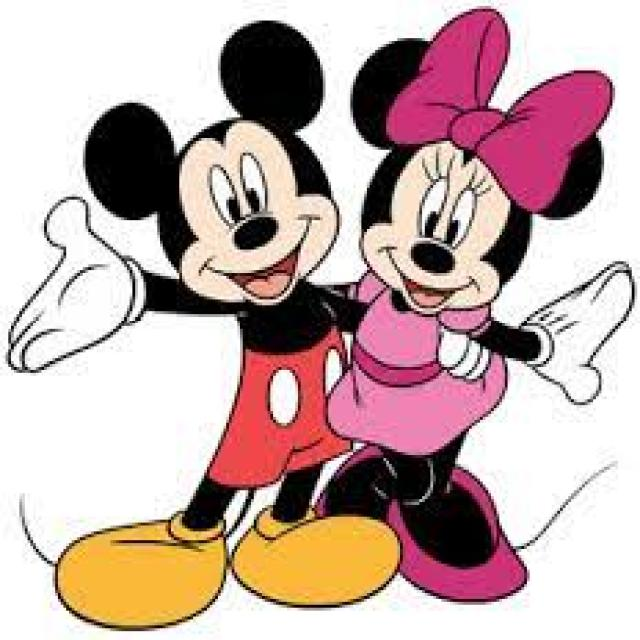mickey: (73, 26, 344, 592)
